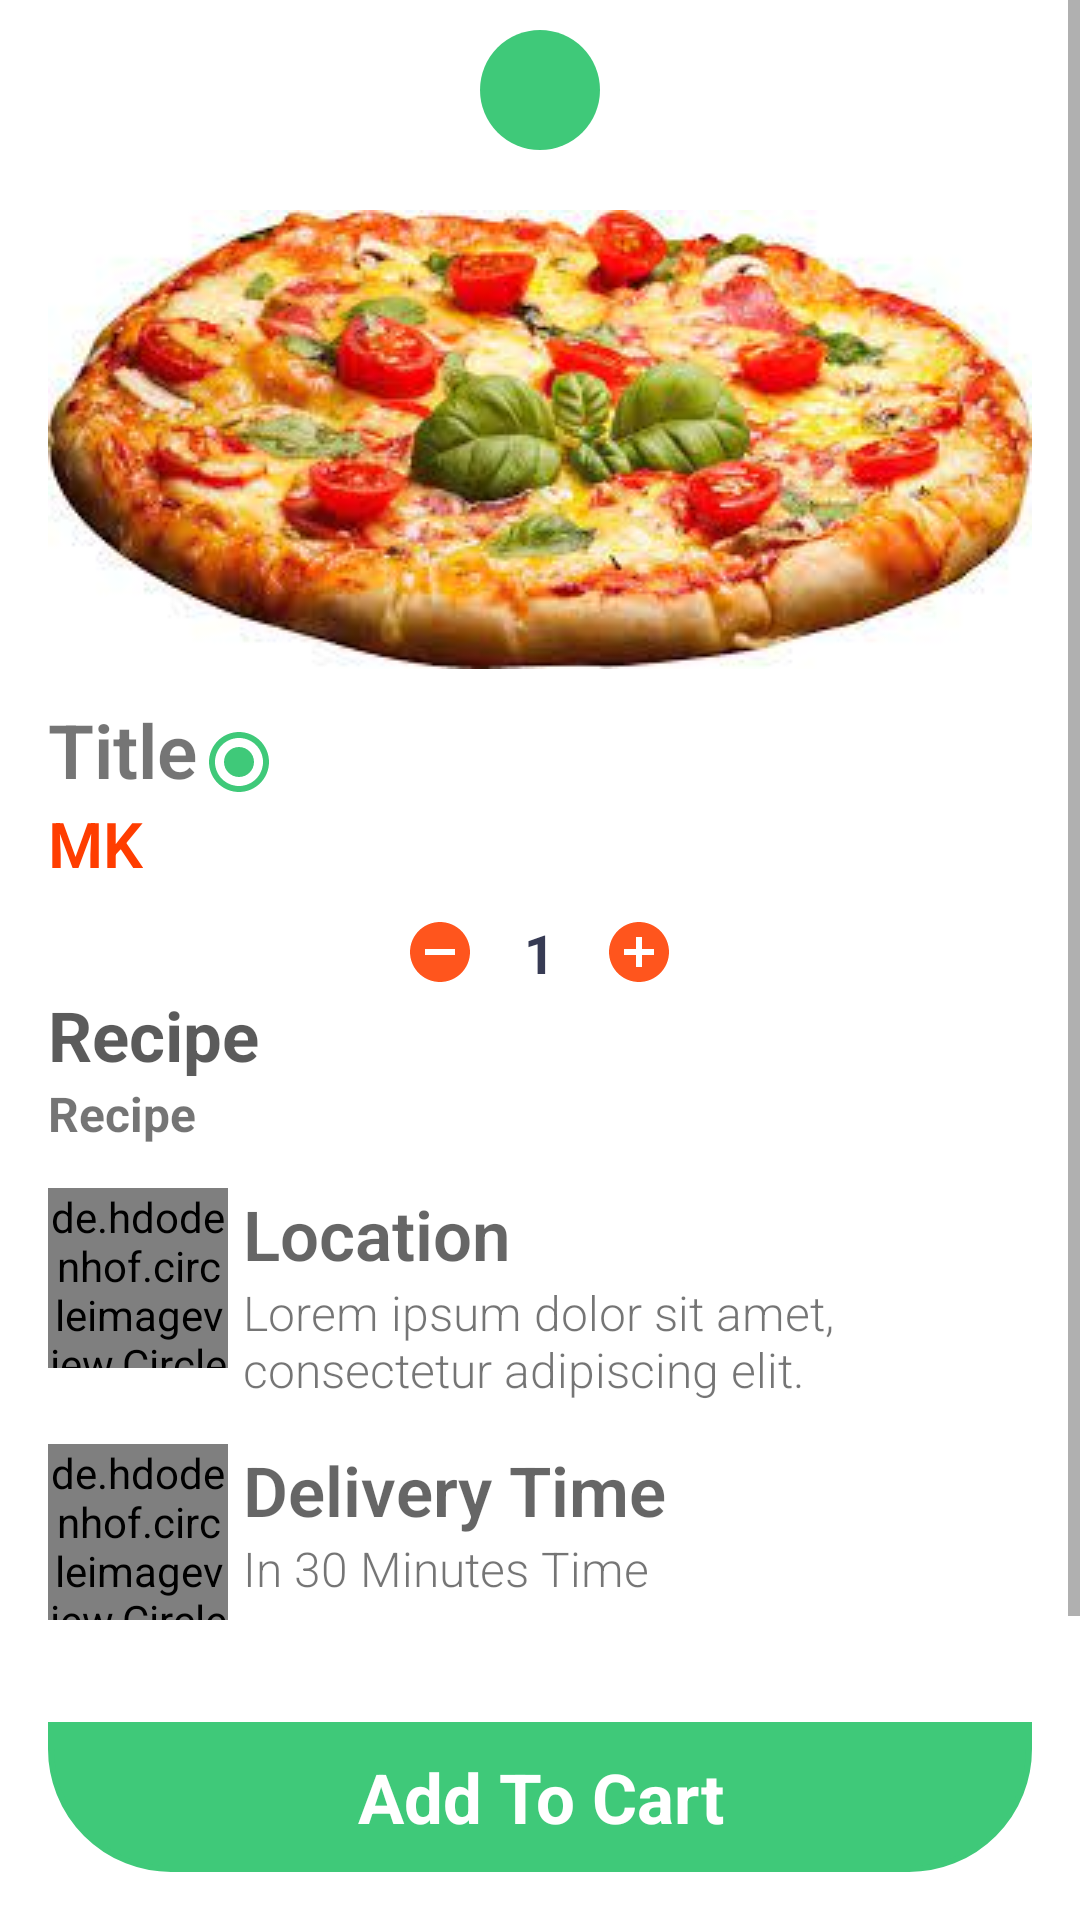

Screen size 1080 x 1920. Icon name, then its box in pixels as (x1, y1, x2, y2):
add: (609, 922, 669, 982)
radio checked: (209, 732, 269, 792)
remove: (410, 922, 470, 982)
